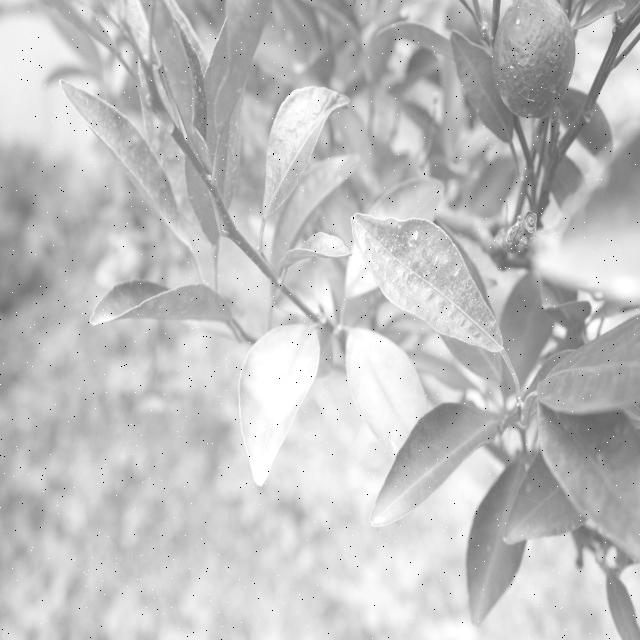greening: (224, 328, 328, 481), (345, 328, 423, 447), (272, 257, 336, 321)
